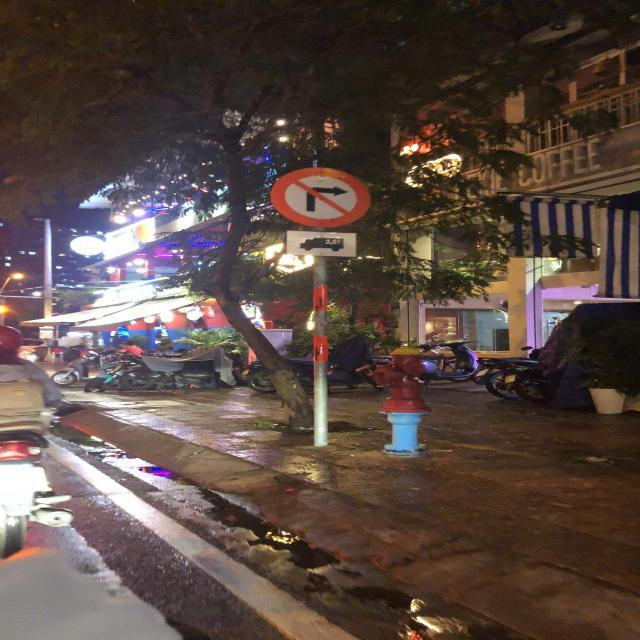Bien bao cam re phai: (265, 163, 380, 230)
